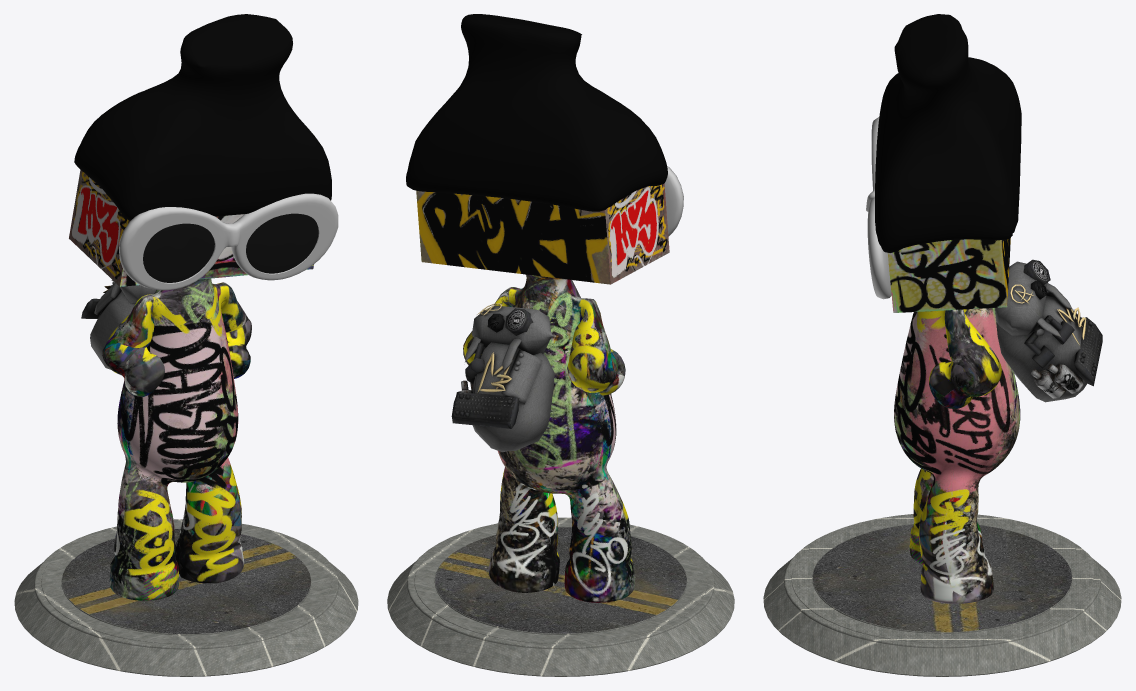
File: 380_sanitized.glb
3 views of the same model, side by side, from view 1: azimuth 30°, elevation 25°; view 2: azimuth 150°, elevation 25°; view 3: azimuth 270°, elevation 25° (orthographic). The views are drawn at different scales.
Parts seen in each view (by area): view 1: BBody; view 2: BBody; view 3: BBody.
Part boxes in pixels (x1=…): BBody: x1=14, y1=14, x2=358, y2=676; BBody: x1=387, y1=14, x2=734, y2=676; BBody: x1=763, y1=14, x2=1121, y2=676.
Size of the model in its own units: 1.45 by 2.64 by 1.45.
9 materials, 5 textured.
